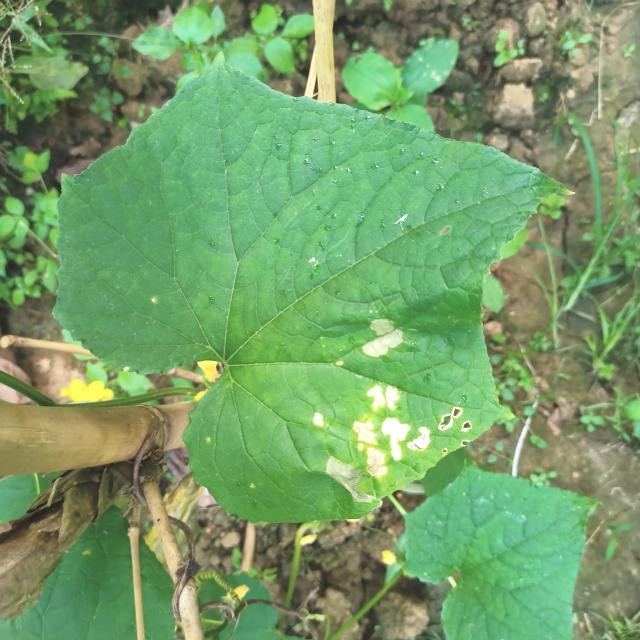disease_cucumber: (310, 378, 472, 506), (360, 316, 406, 363)
